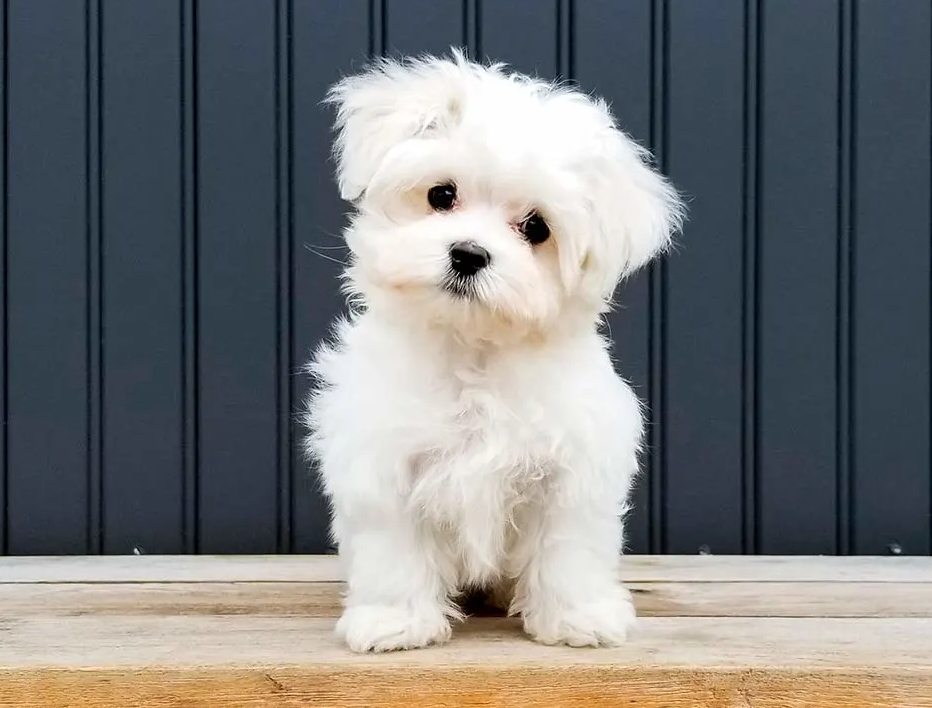perro: (266, 36, 702, 658)
